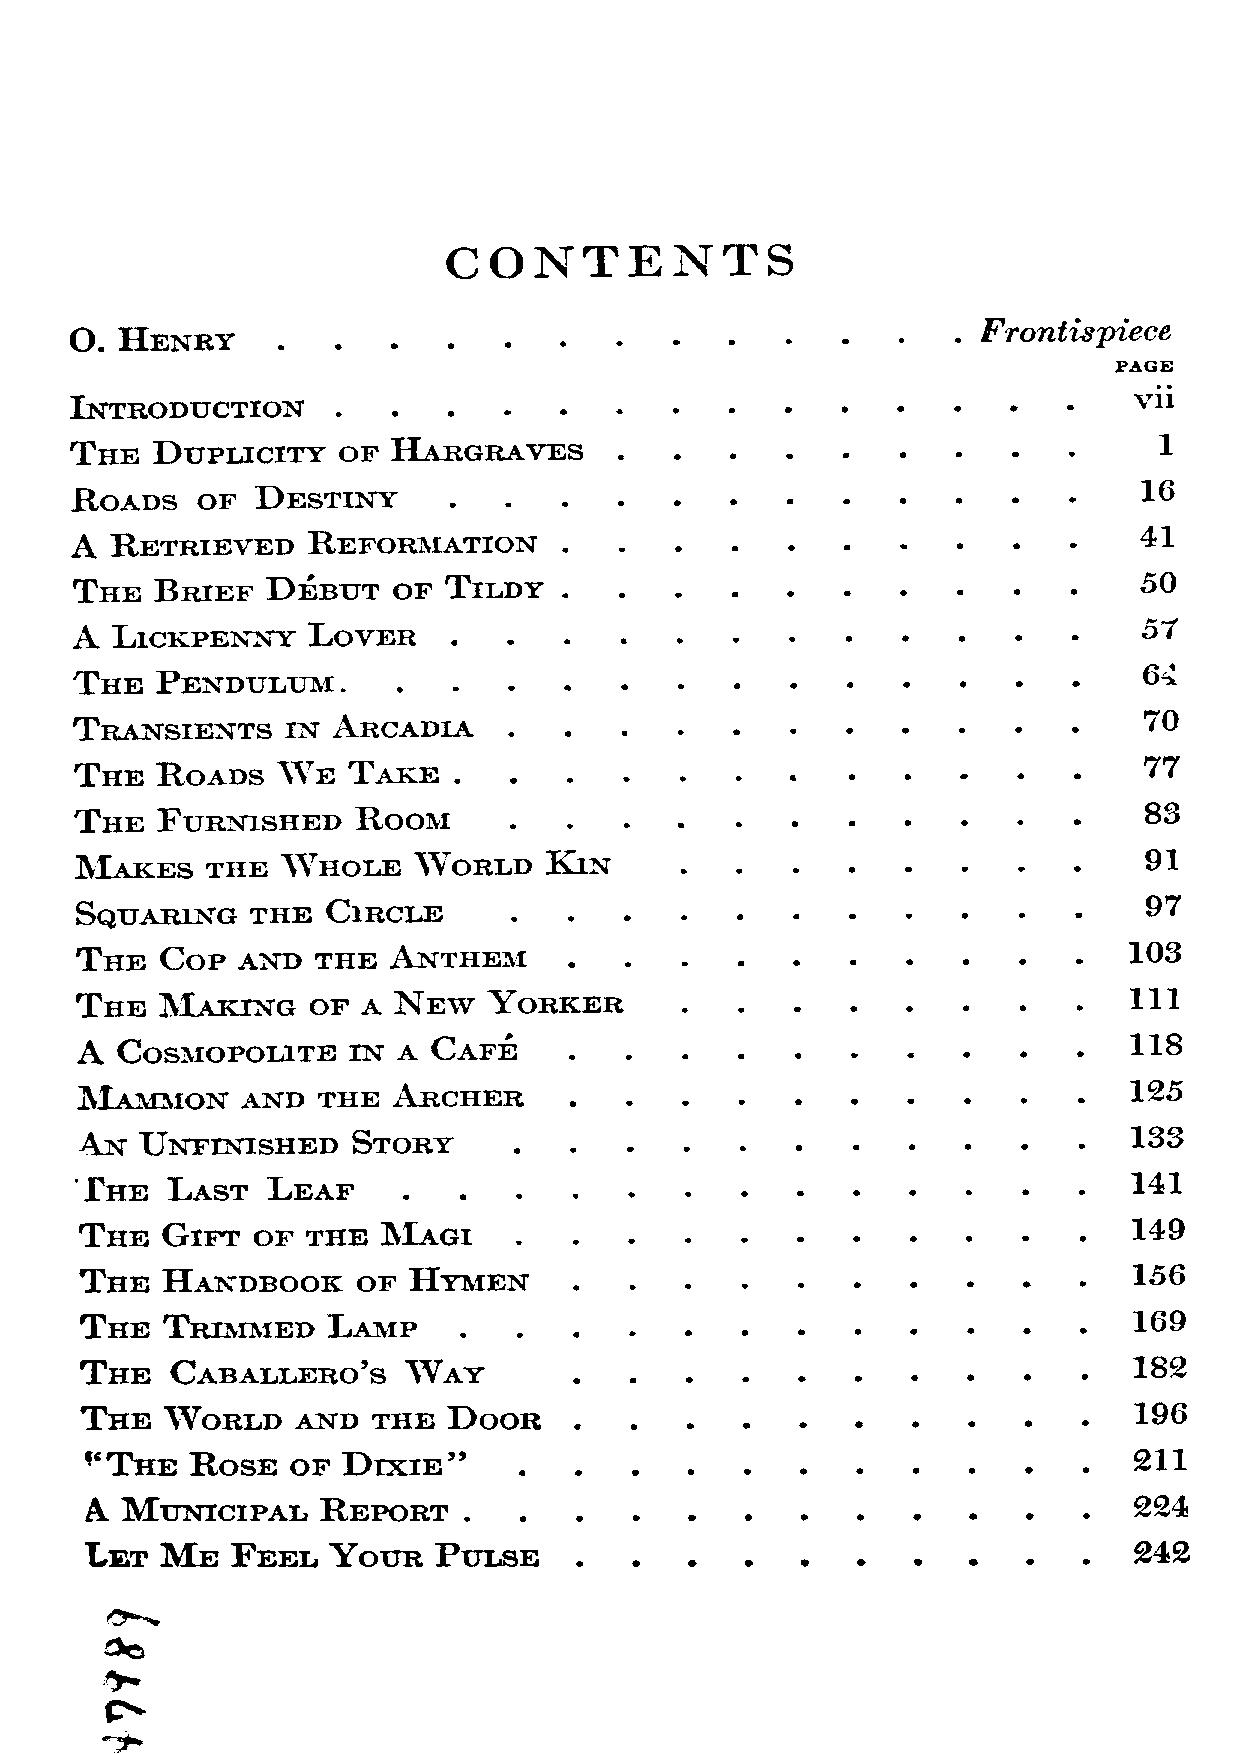TOC_chapter: (81, 1537, 544, 1577), (71, 1398, 545, 1437), (72, 986, 623, 1019), (75, 1445, 475, 1488), (71, 848, 615, 879), (75, 1031, 526, 1066), (76, 1263, 539, 1296), (72, 939, 533, 973), (66, 436, 588, 466), (70, 1351, 487, 1388), (71, 572, 549, 603), (75, 1080, 527, 1113), (68, 530, 538, 560), (70, 801, 455, 836), (76, 1125, 458, 1159), (67, 711, 476, 743), (81, 1494, 460, 1527), (74, 1219, 478, 1249), (76, 1308, 424, 1343), (72, 896, 448, 929), (70, 760, 442, 790), (72, 621, 417, 654), (70, 484, 399, 513), (71, 1172, 356, 1202), (72, 666, 335, 697), (66, 391, 311, 420), (66, 322, 235, 356)
TOC_pagenumber: (978, 311, 1176, 350), (1125, 1074, 1188, 1104), (1130, 1257, 1189, 1290), (1125, 937, 1185, 968), (1127, 1121, 1188, 1151), (1125, 1168, 1185, 1198), (1133, 1537, 1193, 1567), (1129, 1210, 1184, 1244), (1131, 1349, 1190, 1380), (1131, 1397, 1190, 1428), (1129, 1027, 1186, 1057), (1130, 1304, 1193, 1333), (1129, 1445, 1192, 1474), (1133, 1490, 1189, 1520), (1129, 981, 1180, 1012), (1137, 655, 1180, 690), (1129, 382, 1177, 411), (1138, 752, 1184, 781), (1137, 474, 1180, 505), (1139, 796, 1184, 825), (1141, 701, 1180, 734), (1137, 568, 1180, 596), (1139, 845, 1180, 874), (1137, 522, 1177, 549), (1143, 615, 1180, 644), (1142, 892, 1180, 918), (1151, 428, 1176, 458)
chapter: (437, 242, 798, 283)
